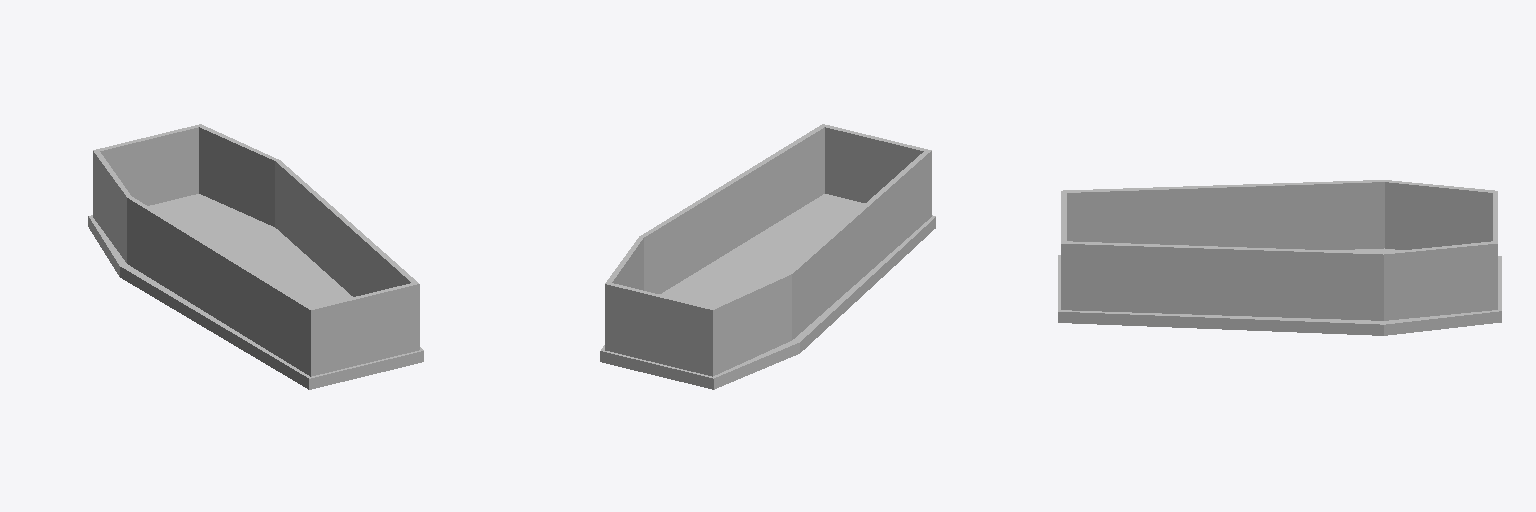
The model's file is Coffin_Opened.obj.
The picture shows the model from 3 angles: view 1: azimuth 30°, elevation 25°; view 2: azimuth 150°, elevation 25°; view 3: azimuth 270°, elevation 25°; orthographic projection.
Visible parts, largest first — view 1: Export_Coffin_Opened; view 2: Export_Coffin_Opened; view 3: Export_Coffin_Opened.
Part boxes in pixels (x1,y1,x2,y2): Export_Coffin_Opened: (88,124,423,389); Export_Coffin_Opened: (600,124,935,389); Export_Coffin_Opened: (1058,180,1501,335).
Bounding box in the file's own units: 0.919 × 0.4048 × 2.1.